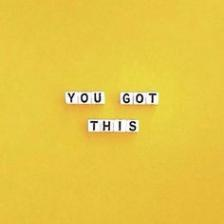yellow: (0, 1, 224, 224)
